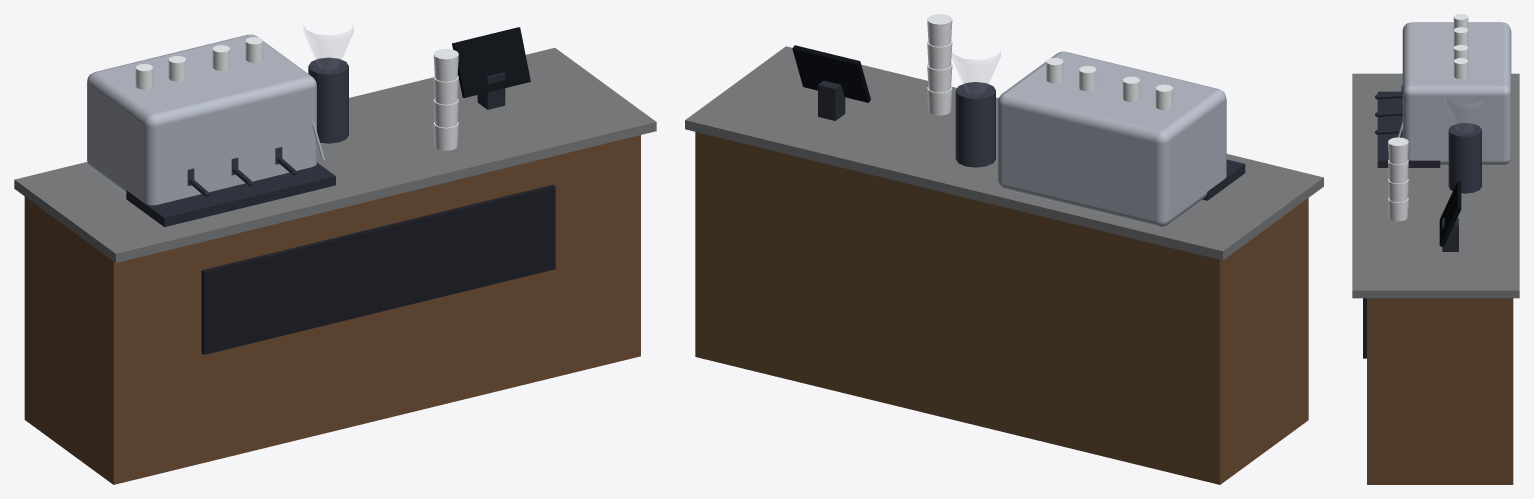
The model's file is hsp-008.glb.
3 views of the same model, side by side, from view 1: azimuth 30°, elevation 25°; view 2: azimuth 150°, elevation 25°; view 3: azimuth 270°, elevation 25° (orthographic). The views are drawn at different scales.
Parts seen in each view (by area): view 1: walnut, stone_top, sign_panel, steel, plastic_dark, white, monitor_screen, dark_steel, glass_clear; view 2: walnut, stone_top, steel, white, dark_steel, monitor_screen, plastic_dark, glass_clear; view 3: walnut, stone_top, steel, white, dark_steel, plastic_dark, glass_clear, monitor_screen, sign_panel.
Boxes of the visible parts, x1=… form: walnut: x1=24, y1=135, x2=640, y2=484; stone_top: x1=14, y1=48, x2=656, y2=262; sign_panel: x1=201, y1=184, x2=555, y2=354; steel: x1=87, y1=34, x2=324, y2=205; plastic_dark: x1=126, y1=72, x2=505, y2=226; white: x1=135, y1=37, x2=458, y2=150; monitor_screen: x1=452, y1=27, x2=530, y2=97; dark_steel: x1=187, y1=57, x2=348, y2=185; glass_clear: x1=304, y1=26, x2=353, y2=69; walnut: x1=695, y1=132, x2=1308, y2=484; stone_top: x1=685, y1=46, x2=1323, y2=260; steel: x1=997, y1=51, x2=1226, y2=226; white: x1=927, y1=14, x2=1172, y2=115; dark_steel: x1=955, y1=82, x2=995, y2=167; monitor_screen: x1=792, y1=45, x2=870, y2=102; plastic_dark: x1=818, y1=80, x2=1245, y2=200; glass_clear: x1=951, y1=51, x2=1000, y2=93; walnut: x1=1367, y1=298, x2=1513, y2=484; stone_top: x1=1352, y1=73, x2=1519, y2=298; steel: x1=1397, y1=22, x2=1511, y2=165; white: x1=1388, y1=14, x2=1468, y2=221; dark_steel: x1=1401, y1=84, x2=1481, y2=193; plastic_dark: x1=1375, y1=91, x2=1458, y2=251; glass_clear: x1=1445, y1=97, x2=1485, y2=132; monitor_screen: x1=1439, y1=181, x2=1461, y2=247; sign_panel: x1=1363, y1=298, x2=1366, y2=358.
Bounding box in the file's own units: 2.46 × 1.54 × 0.8.
